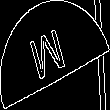M_S: (33, 23, 77, 87)
